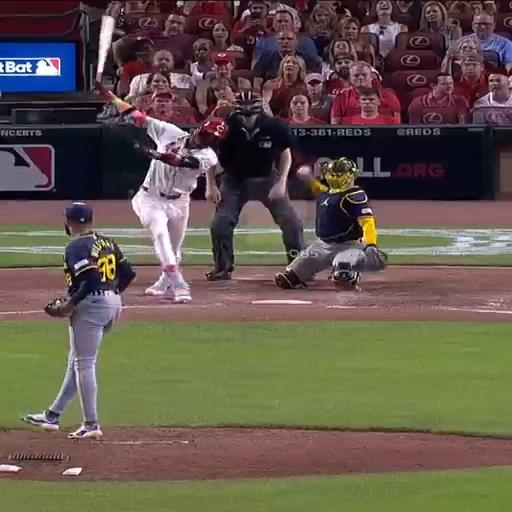bat: (96, 15, 115, 83)
